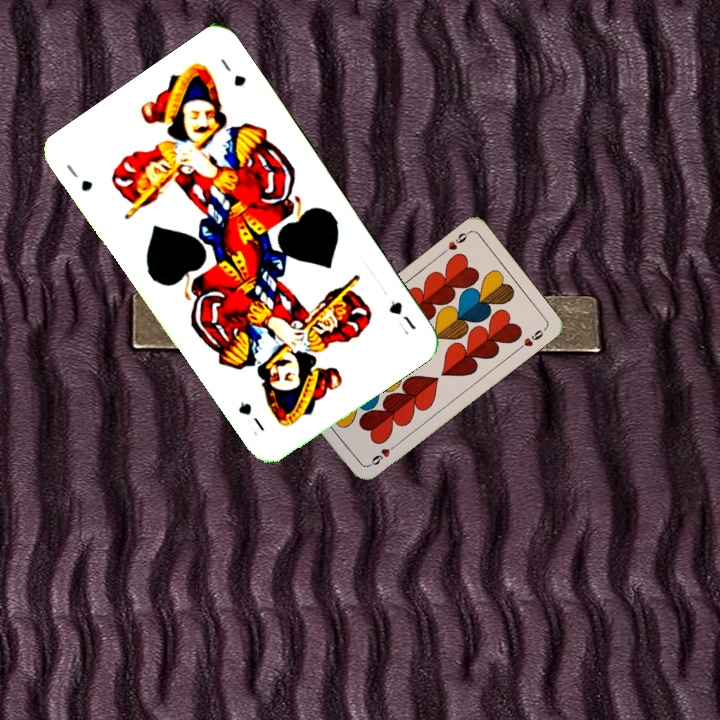GU: (384, 295, 419, 338), (62, 160, 96, 195)
H9: (438, 227, 472, 257), (364, 440, 399, 469)
